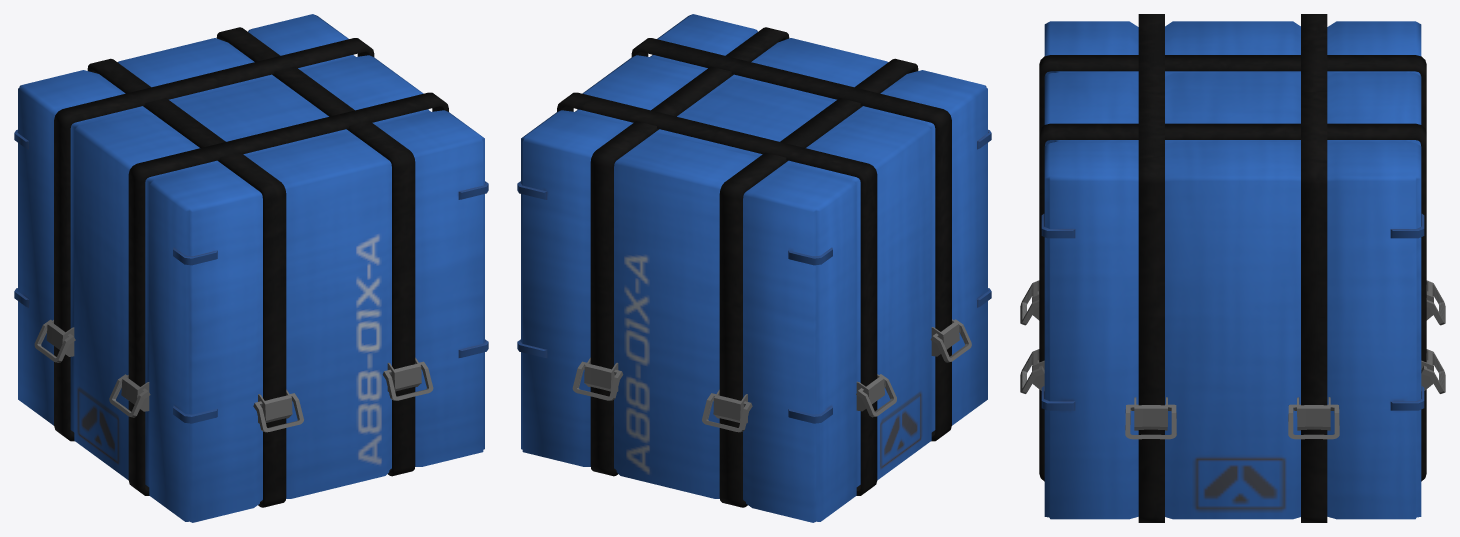
The model's file is Prop_Crate_Tarp.gltf.
The picture shows the model from 3 angles, left to right: view 1: azimuth 30°, elevation 25°; view 2: azimuth 150°, elevation 25°; view 3: azimuth 270°, elevation 25°; orthographic projection. The views are drawn at different scales.
Parts seen in each view (by area): view 1: Prop_Crate_Tarp; view 2: Prop_Crate_Tarp; view 3: Prop_Crate_Tarp.
Part boxes in pixels (box(x1,y1,x2,y2)): Prop_Crate_Tarp: box(14, 14, 488, 522); Prop_Crate_Tarp: box(517, 14, 991, 522); Prop_Crate_Tarp: box(1020, 14, 1445, 522).
Size of the model in its own units: 1.72 by 1.57 by 1.71.
1 material, 1 textured.
